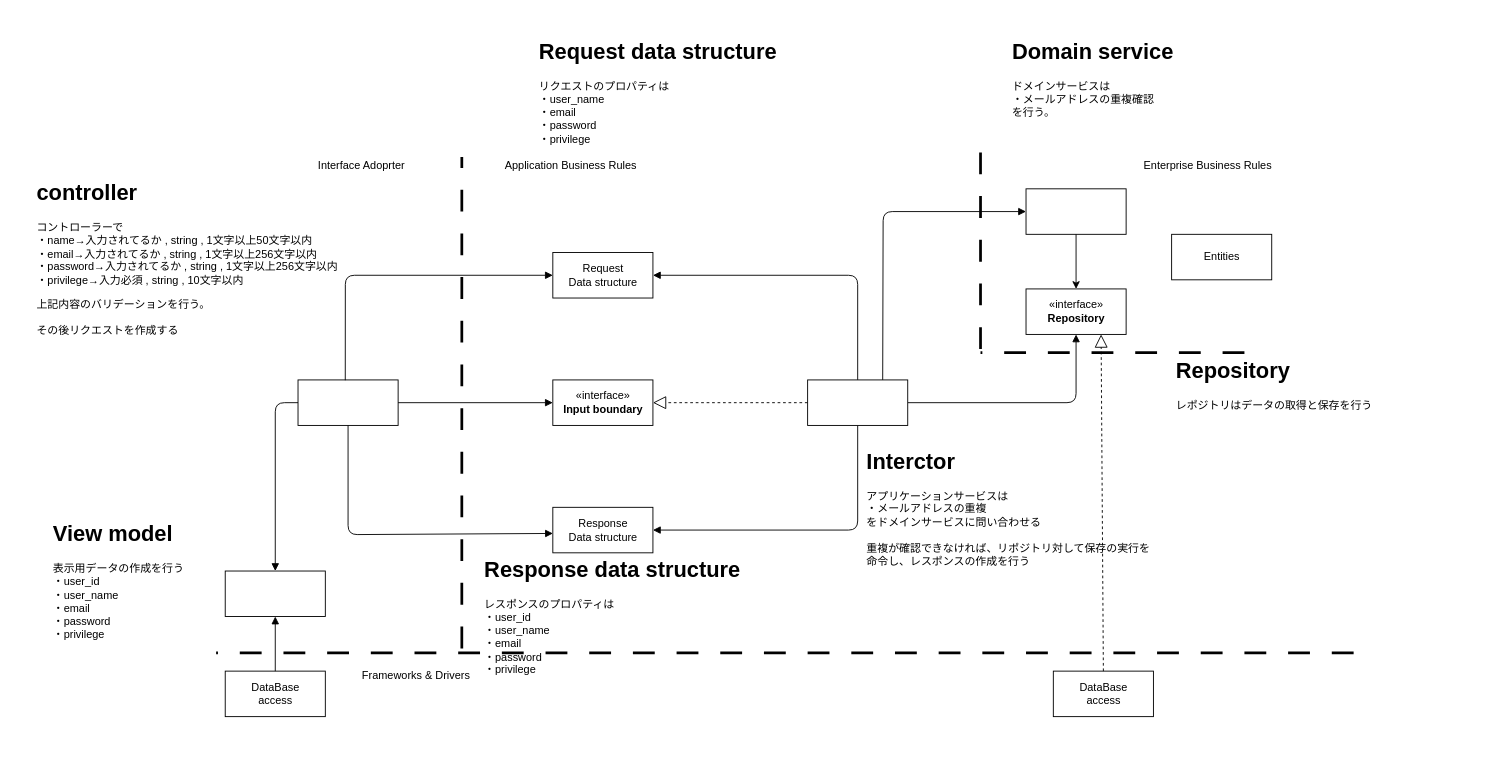
Image size: 1487x759. Some labels were removed from this diagram. The box of each missing label's shape, as (x1, y1, x2, y2) in pixels:
Controller: (297, 379, 398, 425)
Domain Service: (1025, 188, 1126, 234)
ViewModel Data structure: (224, 570, 325, 617)
«interface» Create UseCase: (807, 379, 908, 425)
